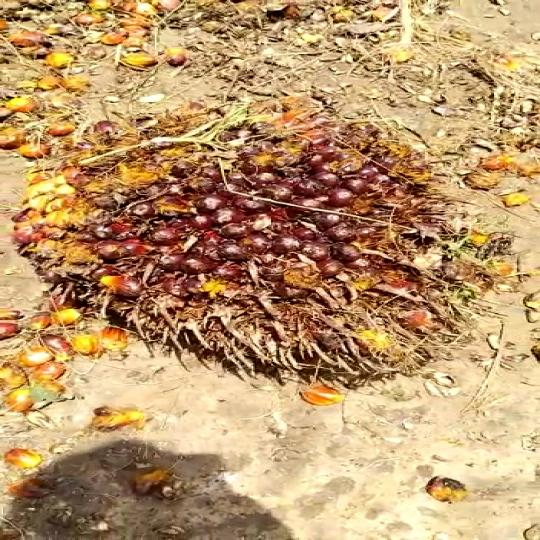masak: (0, 100, 533, 407)
